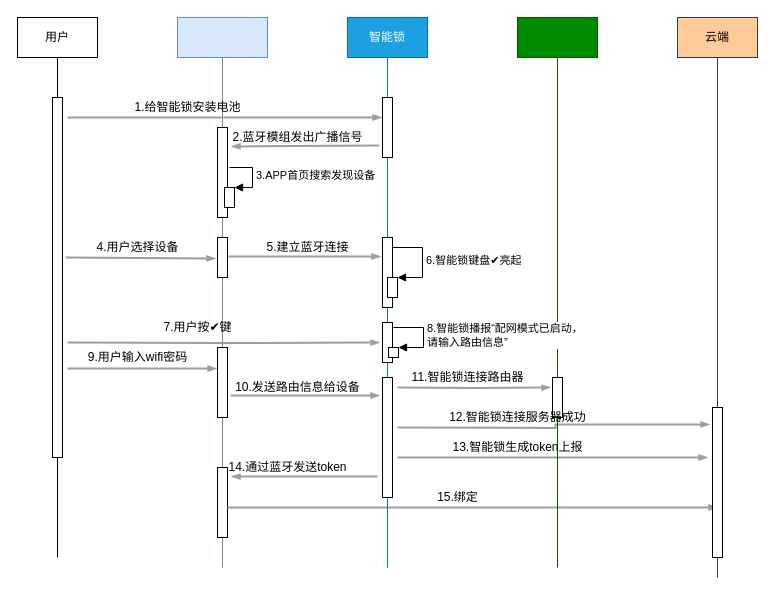
Some shapes in this 775 by 595 pixel diagram are drawn without their labels. Here are the shapes that lost their labels. From the top down, the box of each, then its label:
(176, 16, 268, 568): APP
(516, 16, 598, 568): 路由器
